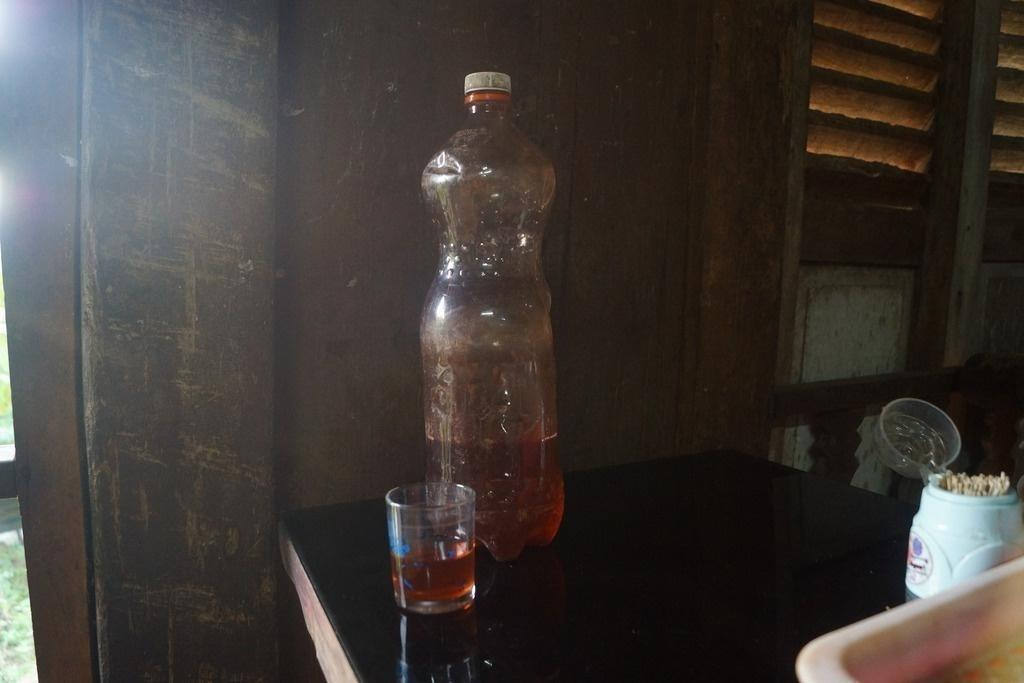bottle-plastic: (415, 70, 570, 560)
glass-normal: (383, 478, 481, 617)
